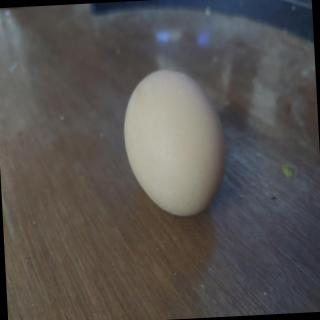Telur: (122, 65, 233, 225)
